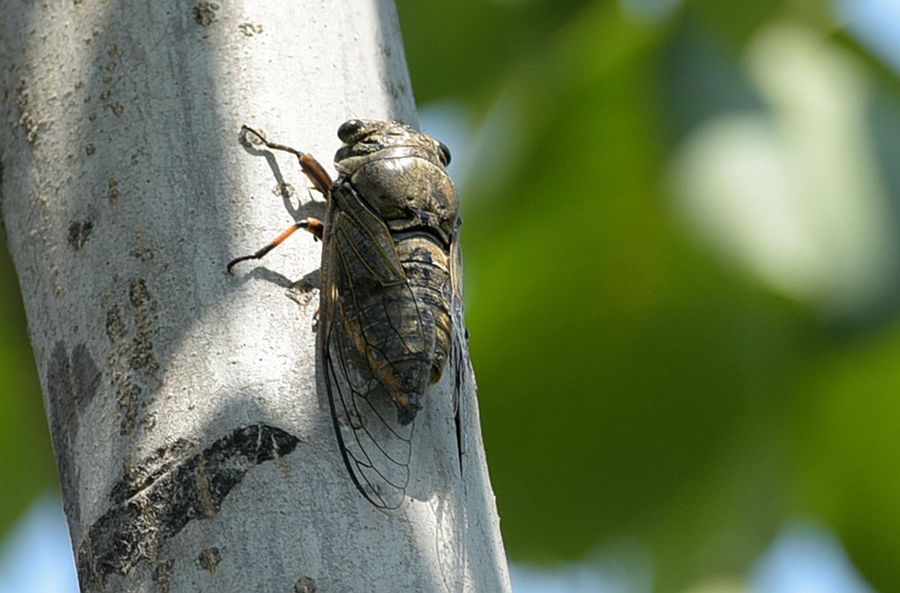chan: (252, 114, 490, 503)
